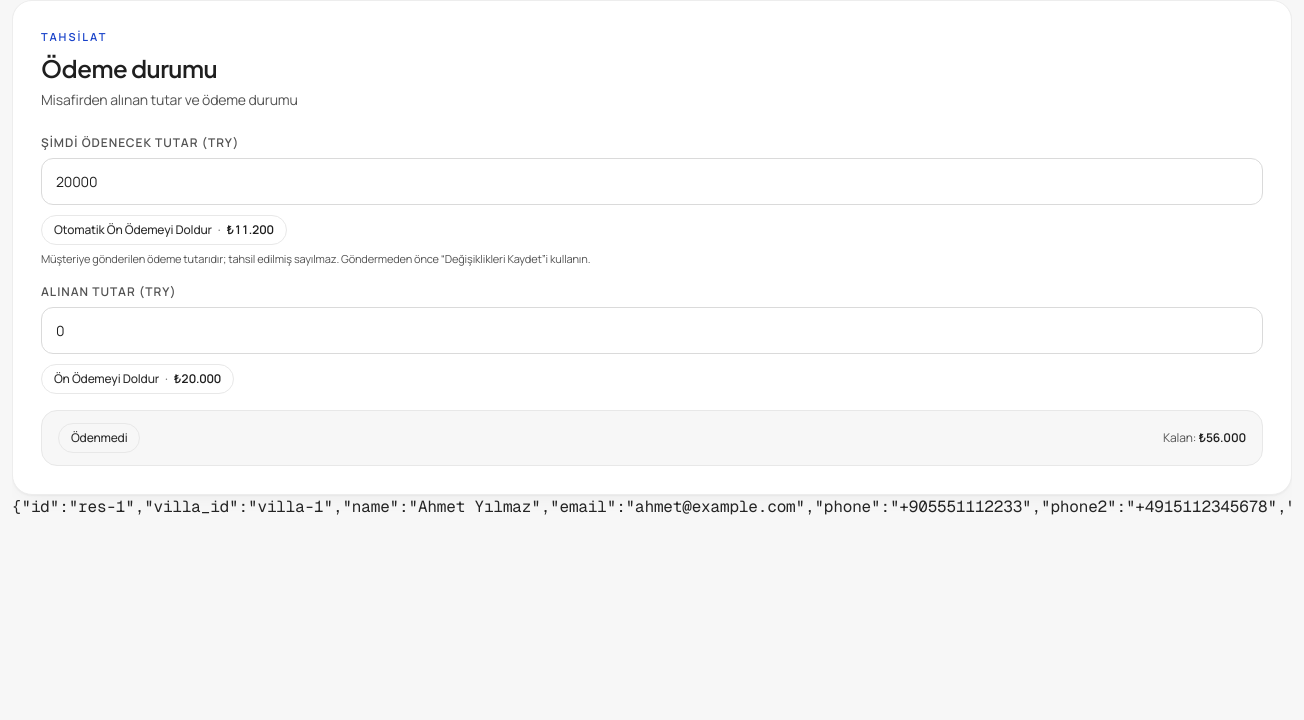
Test: PaymentCard — Şimdi Ödenecek Tutar › Otomatik Ön Ödemeyi Doldur → 11.200 ve kilit kalkar
This screenshot has width=1304, height=720.
Click the button "Otomatik Ön Ödemeyi Doldur · ₺11.200" at [164, 230], box x1=41 y1=214 x2=287 y2=244
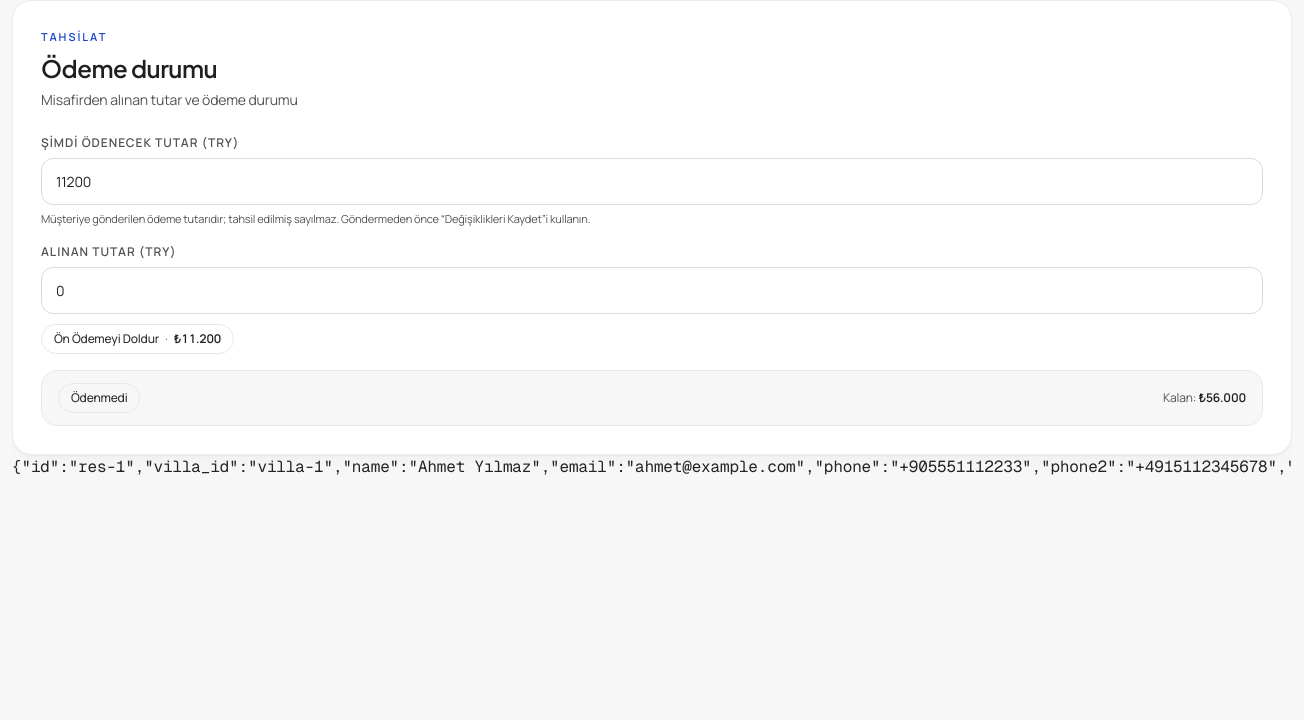
Check: the button "Otomatik Ön Ödemeyi Doldur" is gone
